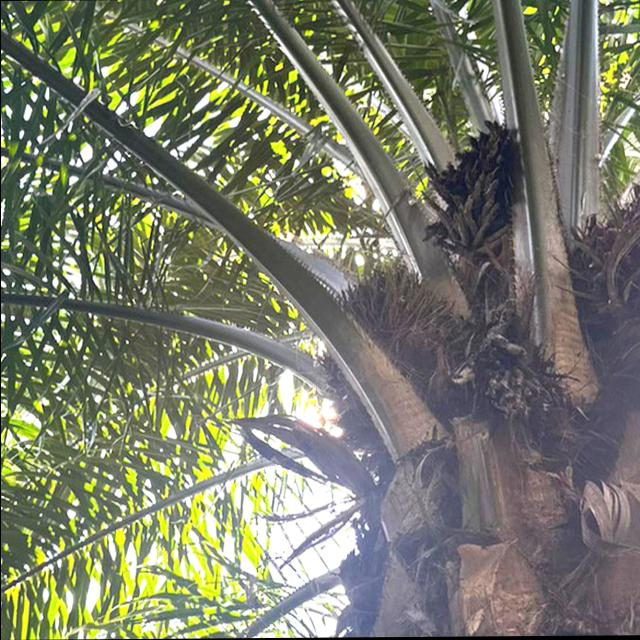unripe: (319, 259, 441, 454)
